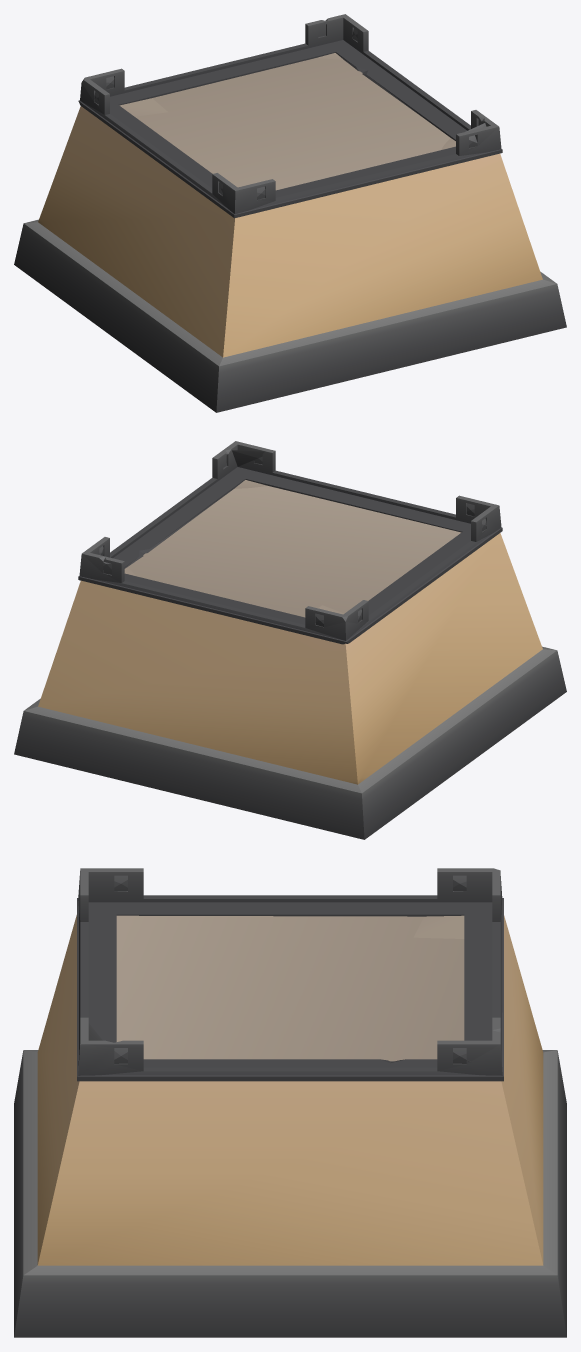
File: Fort Base 02.fbx
3 views of the same model, one above another, from view 1: azimuth 30°, elevation 25°; view 2: azimuth 150°, elevation 25°; view 3: azimuth 270°, elevation 25° (orthographic). The views are drawn at different scales.
Parts seen in each view (by area): view 1: Fort Base 02 low, Fort Base 02 high, Fort Base 02; view 2: Fort Base 02 low, Fort Base 02 high, Fort Base 02; view 3: Fort Base 02 low, Fort Base 02 high, Fort Base 02.
Part boxes in pixels (left/top/right/bottom): Fort Base 02 low: left=38, top=24, right=542, bottom=357; Fort Base 02 high: left=14, top=14, right=566, bottom=412; Fort Base 02: left=80, top=53, right=566, bottom=412; Fort Base 02 low: left=38, top=450, right=542, bottom=784; Fort Base 02 high: left=14, top=441, right=566, bottom=839; Fort Base 02: left=79, top=480, right=501, bottom=640; Fort Base 02 low: left=37, top=875, right=543, bottom=1265; Fort Base 02 high: left=14, top=868, right=566, bottom=1337; Fort Base 02: left=14, top=868, right=502, bottom=1334.
Size of the model in its own units: 21.75 by 11.48 by 21.75.
Materials: 1 (1 with a texture image).
